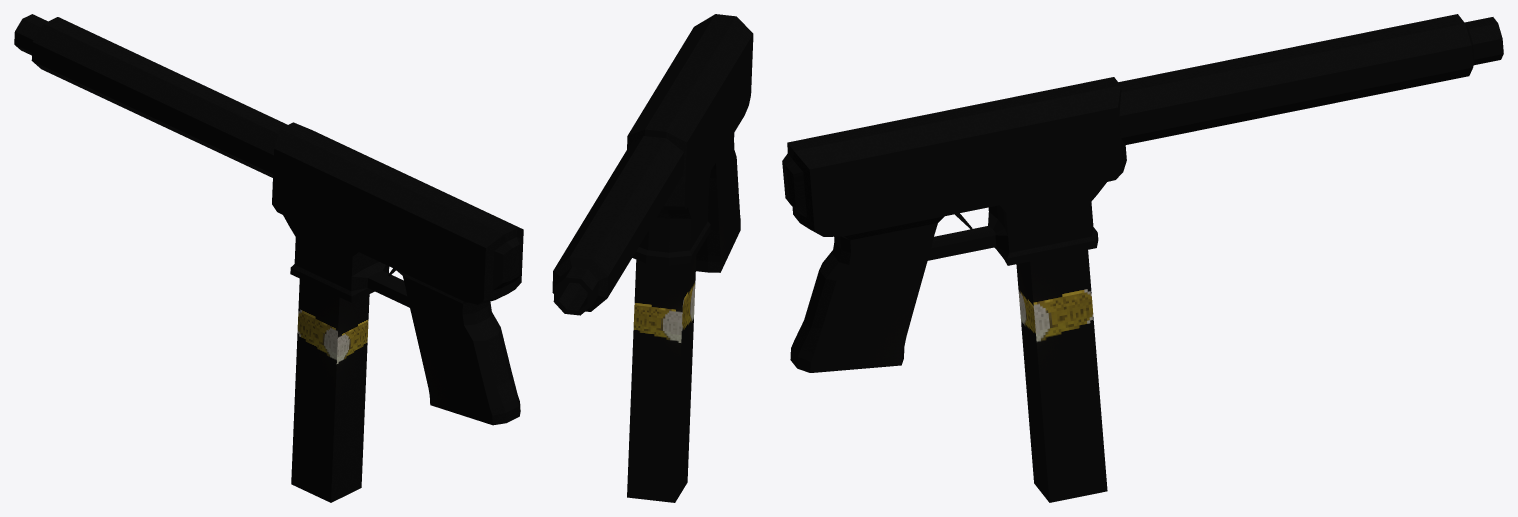
The model's file is tech9.fbx.
3 renders of one model, left to right at view 1: azimuth 30°, elevation 25°; view 2: azimuth 150°, elevation 25°; view 3: azimuth 270°, elevation 25°, orthographic. The views are drawn at different scales.
Visible parts, largest first — view 1: Cube.001; view 2: Cube.001; view 3: Cube.001.
Part boxes in pixels (x1,y1,x2,y2): Cube.001: (14,14,523,502); Cube.001: (552,14,753,502); Cube.001: (782,14,1503,502).
Size of the model in its own units: 172 by 290 by 457.
